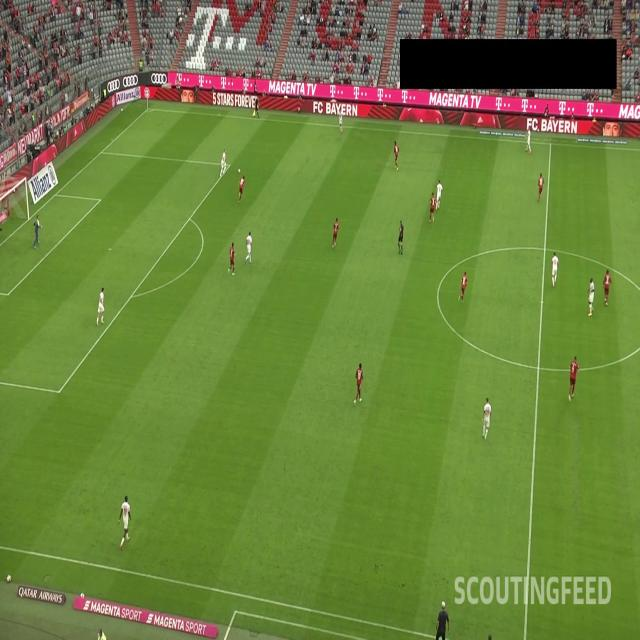ball: (236, 163, 243, 178)
player: (116, 491, 133, 552), (351, 356, 364, 404), (568, 354, 581, 401), (93, 283, 106, 328), (30, 211, 44, 251), (482, 395, 492, 443), (601, 265, 612, 308), (548, 249, 559, 291), (329, 215, 341, 251), (226, 235, 236, 278), (586, 275, 595, 318), (237, 171, 248, 206), (458, 268, 468, 306), (242, 229, 252, 265), (522, 124, 533, 155), (334, 107, 346, 132), (391, 136, 399, 173), (435, 179, 443, 210), (536, 174, 544, 202), (220, 145, 226, 179), (428, 190, 434, 224)
referee: (396, 217, 404, 257), (252, 94, 260, 121)
